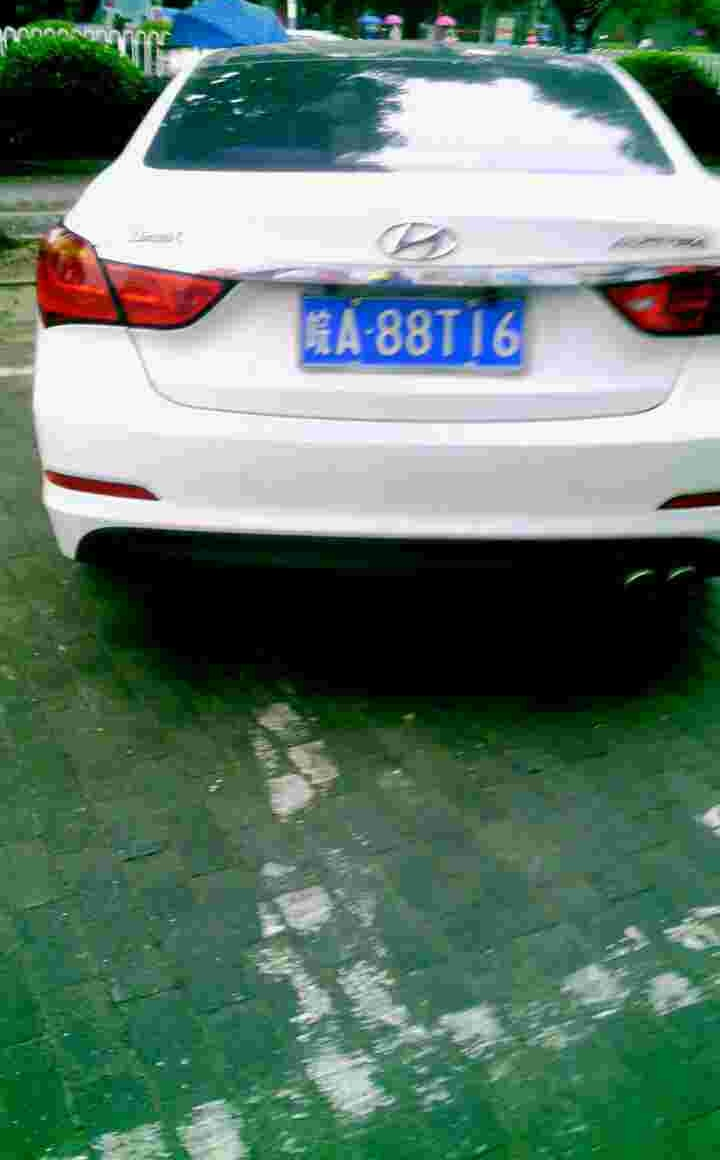license_plate: (308, 297, 536, 372)
